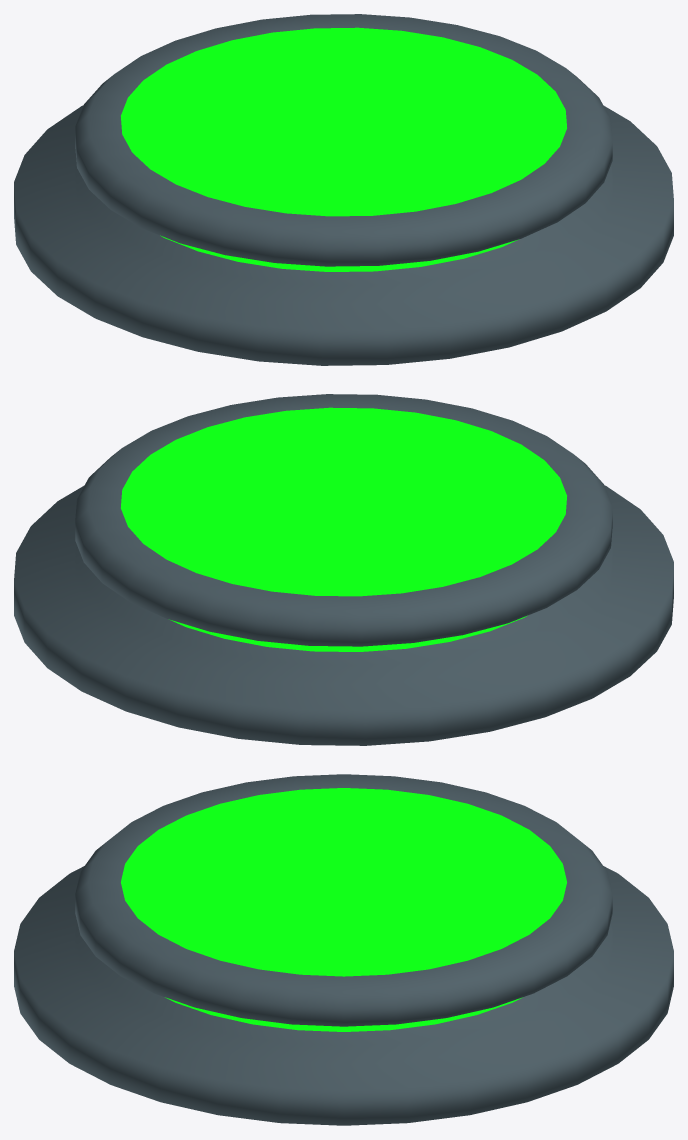
Rendered from Selected.glb.
The picture shows the model from 3 angles, top to bottom: view 1: azimuth 30°, elevation 25°; view 2: azimuth 150°, elevation 25°; view 3: azimuth 270°, elevation 25°; orthographic projection.
Visible parts, largest first — view 1: Selected; view 2: Selected; view 3: Selected.
Part boxes in pixels (bbox=[...]): Selected: bbox=[14, 14, 673, 365]; Selected: bbox=[14, 394, 673, 745]; Selected: bbox=[14, 774, 673, 1125].
Size of the model in its own units: 0.0986 by 0.0172 by 0.0986.
Materials: 2 (1 with a texture image).
